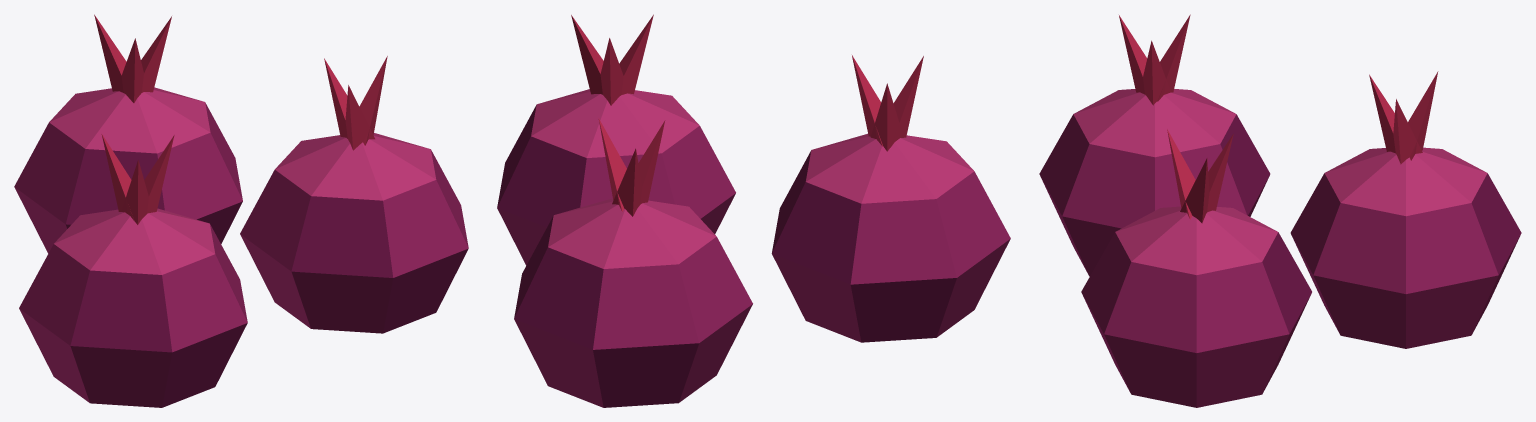
Rendered from beet-crop.glb.
The picture shows the model from 3 angles, left to right: view 1: azimuth 30°, elevation 25°; view 2: azimuth 150°, elevation 25°; view 3: azimuth 270°, elevation 25°; orthographic projection. The views are drawn at different scales.
Parts seen in each view (by area): view 1: beet-crop; view 2: beet-crop; view 3: beet-crop.
Part boxes in pixels (box(x1,y1,x2,y2)): beet-crop: box(14, 14, 468, 407); beet-crop: box(497, 14, 1010, 407); beet-crop: box(1039, 14, 1521, 407).
Bounding box in the file's own units: 0.3616 × 0.2034 × 0.3457.
1 material, 1 textured.
